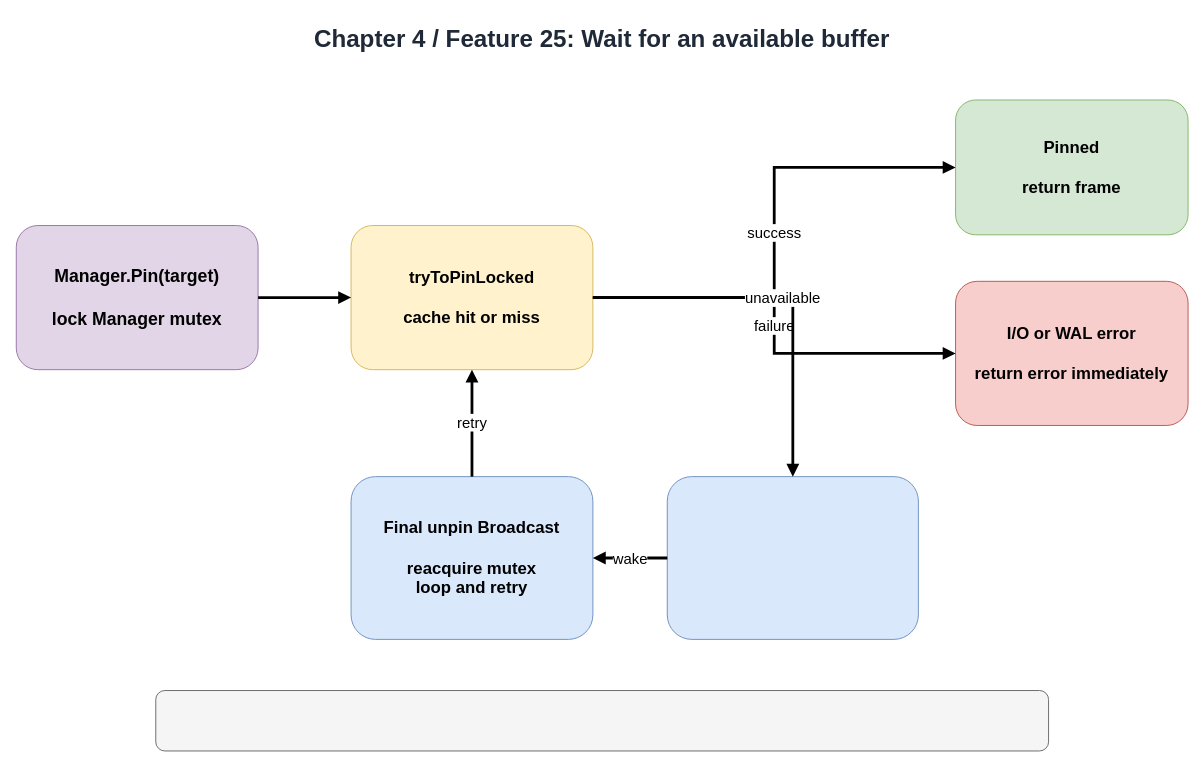
This 1204x767 diagram has some shape labels left out. Here are the shapes that lost their labels. From the top down, the centre of each, then its label:
the point at 792,557: No available frame Cond.Wait() mutex released
the point at 602,720: Pin never spins: unavailable attempts sleep, then recheck after every wakeup.
